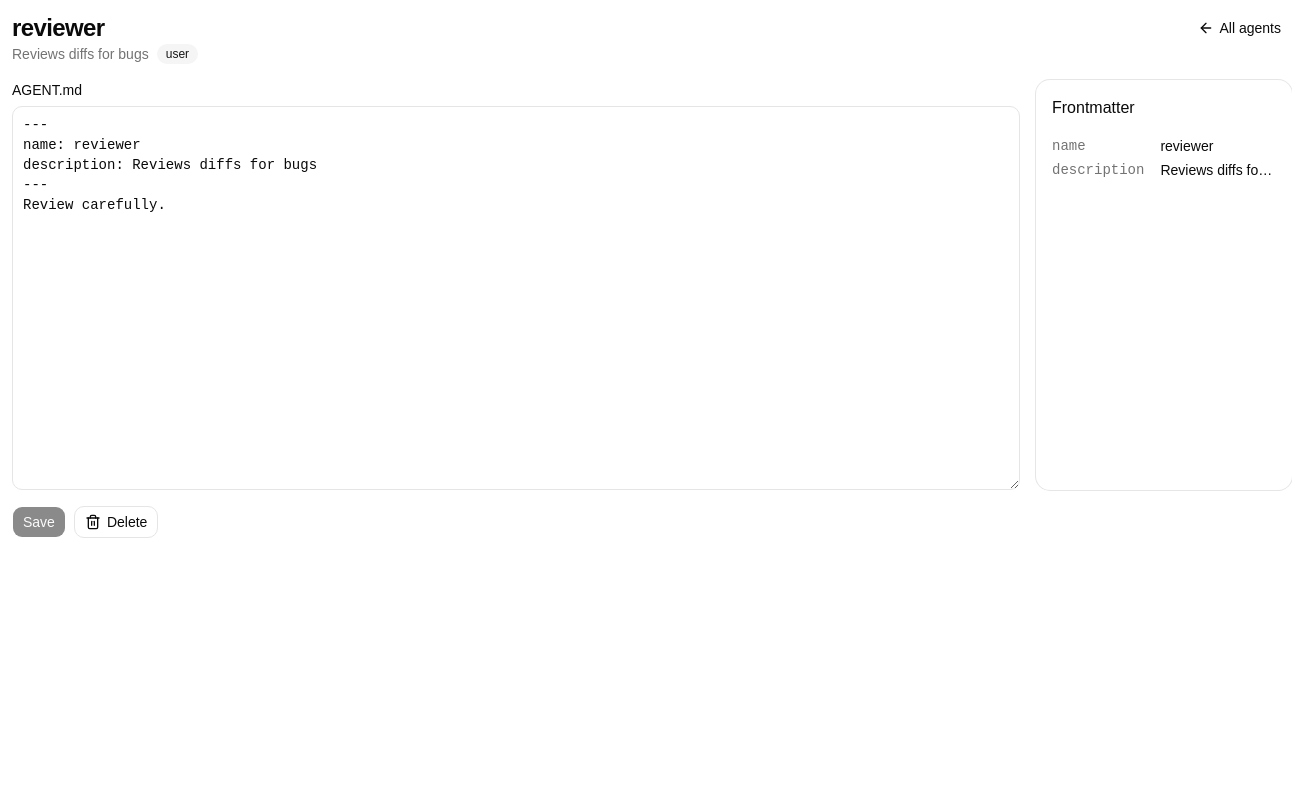
AgentEditor › saves an edit with the new source
Check: the button "Save" is disabled, box [12,506,66,538]
Type " more" into the text box labelled "AGENT.md" at [516, 298], box [12,106,1020,490]
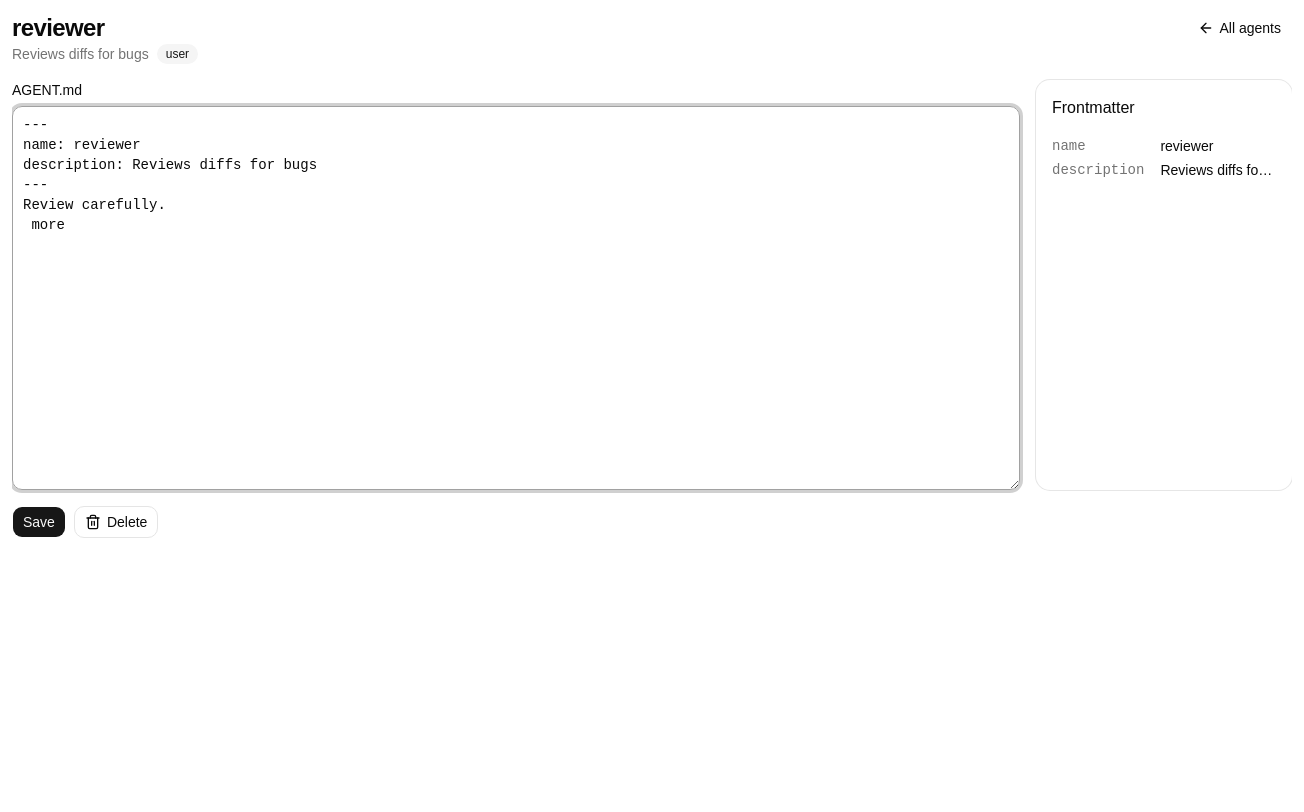
Click the button "Save" at [39, 522], box [12,506,66,538]
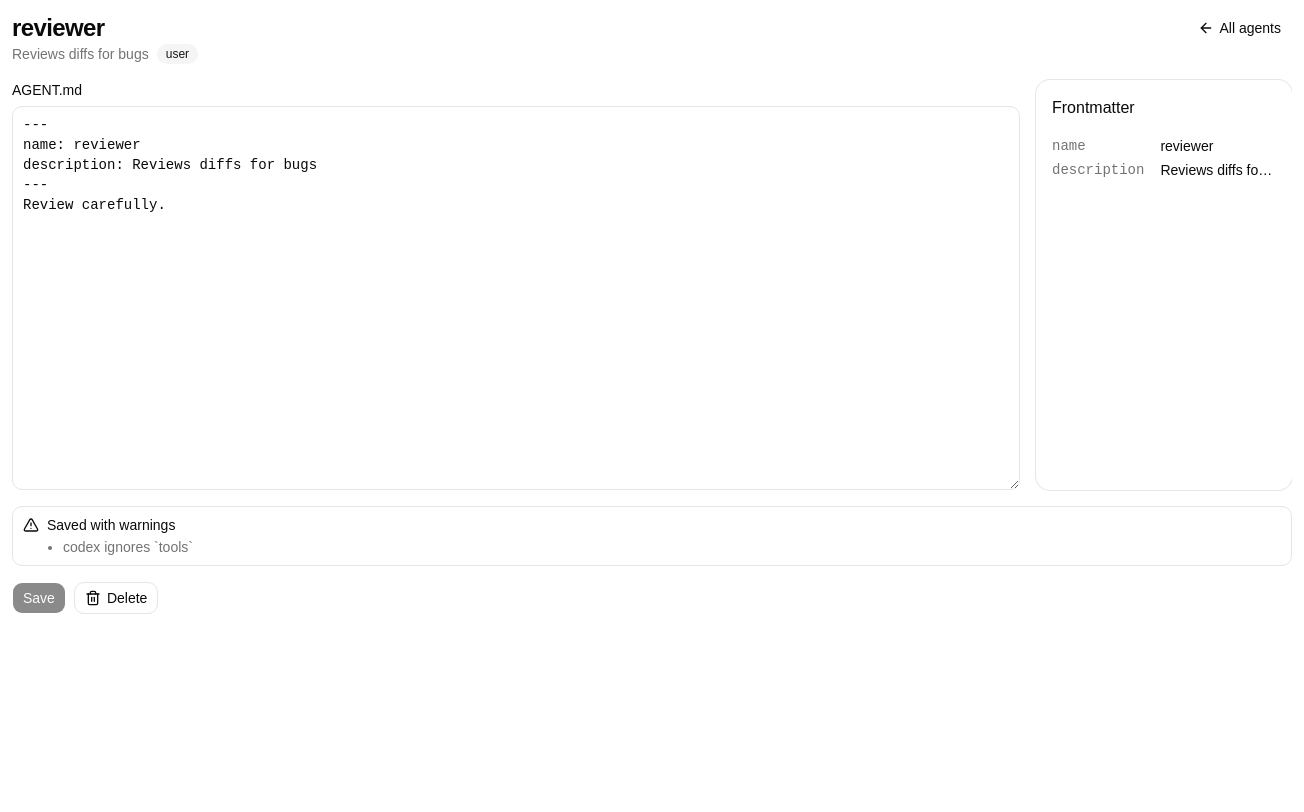
Check: the list item "codex ignores `tools`" is shown, box [63,539,193,555]
